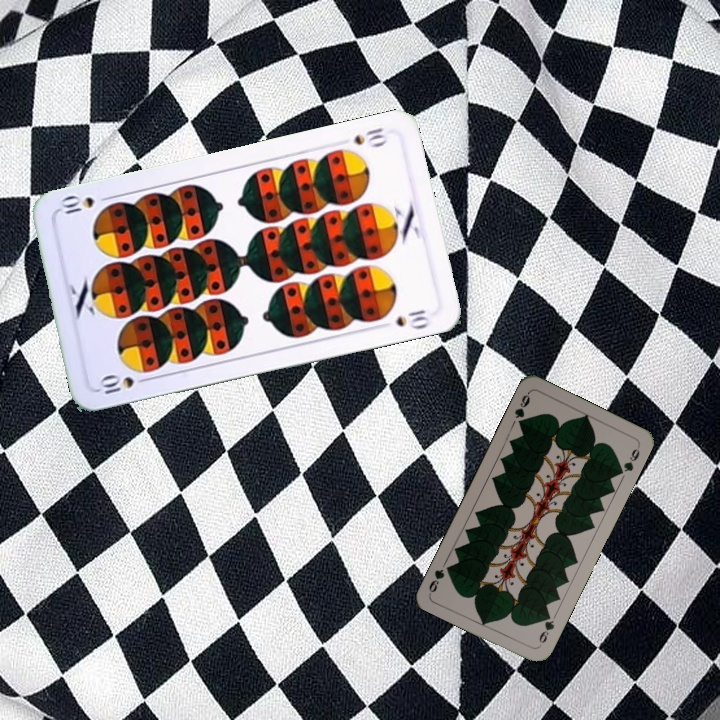G9: (510, 388, 533, 429), (535, 609, 557, 646)
S10: (94, 372, 153, 397), (349, 123, 386, 148)
